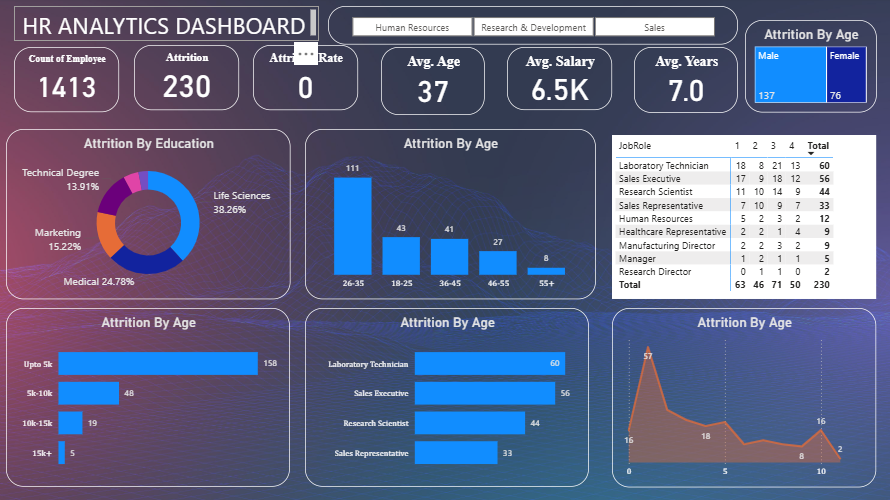

The dashboard page shown, as its layout file describes it:
{"tool":"powerbi","page":{"name":"Page 1","canvas":[1280,720],"ordinal":0},"visuals":[{"type":"card","title":"Count of Employee","fields":{"Values":["Count(HR_Analytics.EmpID)"]},"box":[25.7,71.3,149.8,92.8],"z":0},{"type":"card","title":"Attrition","fields":{"Values":["Sum(HR_Analytics.AttritionCount)"]},"box":[196.9,68.5,149.8,92.8],"z":1000},{"type":"card","title":"Attrition Rate","fields":{"Values":["HR_Analytics.AttritionRate"]},"box":[366.7,68.5,149.8,92.8],"z":2000},{"type":"card","title":"Avg. Age","fields":{"Values":["Avg(HR_Analytics.Age)"]},"box":[549.4,71.3,148.4,97],"z":3000},{"type":"card","title":"Avg. Salary ","fields":{"Values":["Avg(HR_Analytics.MonthlyIncome)"]},"box":[729.2,71.3,149.8,89.9],"z":4000},{"type":"card","title":"Avg. Years","fields":{"Values":["Avg(HR_Analytics.YearsAtCompany)"]},"box":[910.4,71.3,148.4,94.2],"z":5000},{"type":"donutChart","title":"Attrition By Education","fields":{"Category":["HR_Analytics.EducationField"],"Y":["Sum(HR_Analytics.AttritionCount)"]},"box":[14.3,187.7,405.8,243.1],"z":6000},{"type":"columnChart","title":"Attrition By Age","fields":{"Category":["HR_Analytics.AgeGroup"],"Y":["Sum(HR_Analytics.AttritionCount)"]},"box":[441.6,187.7,414.7,243.1],"z":7000},{"type":"pivotTable","fields":{"Rows":["HR_Analytics.JobRole"],"Columns":["HR_Analytics.JobSatisfaction"],"Values":["Sum(HR_Analytics.AttritionCount)"]},"box":[879.6,196.6,377.2,234.2],"z":8000},{"type":"barChart","title":"Attrition By Age","fields":{"Category":["HR_Analytics.SalarySlab"],"Y":["Sum(HR_Analytics.AttritionCount)"]},"box":[14.3,443.8,405.3,255.4],"z":9000},{"type":"barChart","title":"Attrition By Age","fields":{"Y":["Sum(HR_Analytics.AttritionCount)"],"Category":["HR_Analytics.JobRole"]},"box":[440.9,443.8,405.3,255.4],"z":10000},{"type":"areaChart","title":"Attrition By Age","fields":{"Category":["HR_Analytics.YearsAtCompany"],"Y":["Sum(HR_Analytics.AttritionCount)"]},"box":[879.6,443.4,377.2,255.6],"z":11000},{"type":"treemap","title":"Attrition By Age","fields":{"Group":["HR_Analytics.Gender"],"Values":["Sum(HR_Analytics.AttritionCount)"]},"box":[1069.1,32.2,187.7,132.3],"z":12000},{"type":"slicer","fields":{"Values":["HR_Analytics.Department"]},"box":[473.7,12.5,584.6,55.4],"z":13000},{"type":"textbox","box":[25,12.5,436.2,50.1],"z":14000}]}

Visuals, with their boxes in screenshot pixels (x1, y1, x2, y2), scaled from the page's 1280x720 canvas onto the 890x500 screenshot:
"Count of Employee" card: BBox(18, 50, 122, 114)
"Attrition" card: BBox(137, 48, 241, 112)
"Attrition Rate" card: BBox(255, 48, 359, 112)
"Avg. Age" card: BBox(382, 50, 485, 117)
"Avg. Salary " card: BBox(507, 50, 611, 112)
"Avg. Years" card: BBox(633, 50, 736, 115)
"Attrition By Education" donutChart: BBox(10, 130, 292, 299)
"Attrition By Age" columnChart: BBox(307, 130, 595, 299)
pivotTable - HR_Analytics.JobRole x HR_Analytics.JobSatisfaction: BBox(612, 137, 874, 299)
"Attrition By Age" barChart: BBox(10, 308, 292, 486)
"Attrition By Age" barChart: BBox(307, 308, 588, 486)
"Attrition By Age" areaChart: BBox(612, 308, 874, 485)
"Attrition By Age" treemap: BBox(743, 22, 874, 114)
slicer - HR_Analytics.Department: BBox(329, 9, 736, 47)
textbox: BBox(17, 9, 321, 43)
